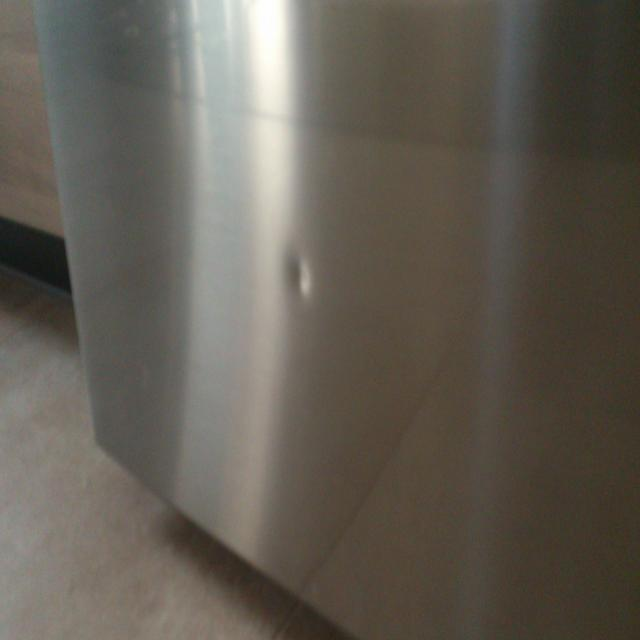dents: (269, 245, 343, 328)
